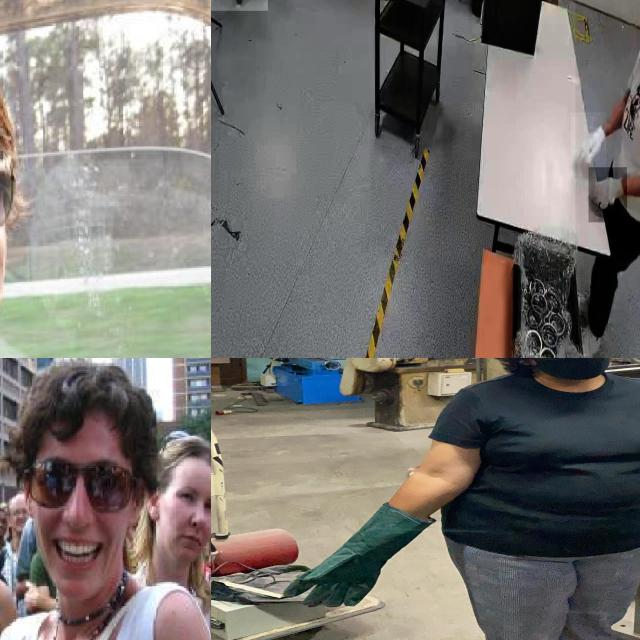face_mask: (526, 358, 613, 377)
face_nomask: (32, 456, 126, 570), (168, 479, 211, 556)
glasses: (20, 449, 141, 521)
hand_glove: (271, 536, 398, 614), (571, 112, 607, 177), (588, 167, 628, 223)
head_nohelmet: (16, 358, 153, 437), (162, 429, 211, 478)
person: (288, 358, 640, 640), (0, 358, 211, 640), (575, 0, 640, 250)
